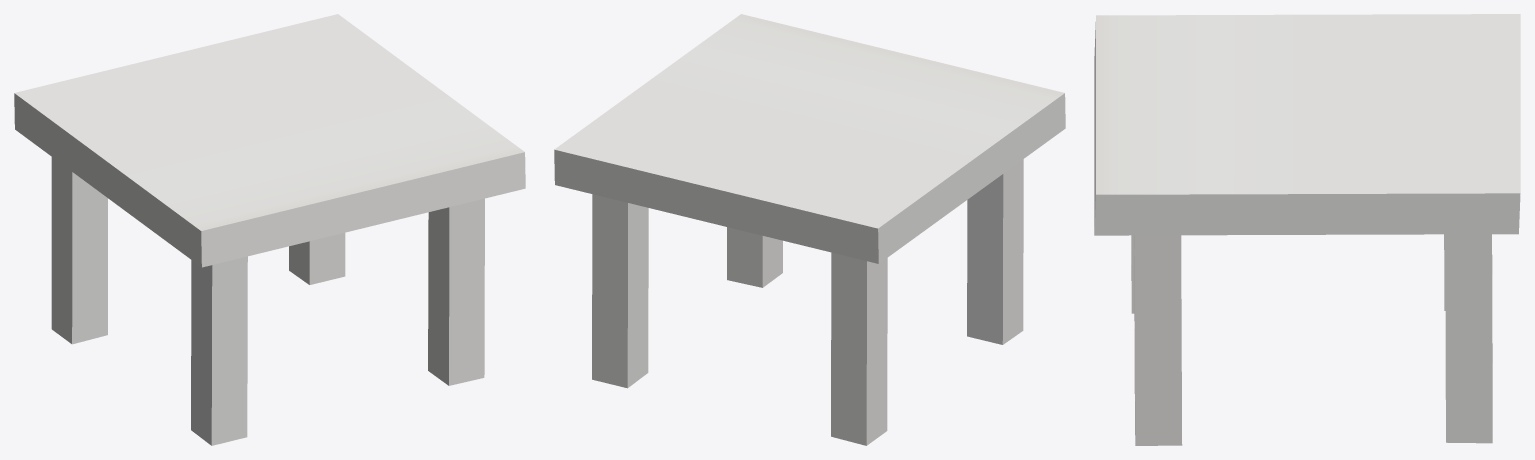
Rendered from Living_Room_table.fbx.
3 renders of one model, left to right at view 1: azimuth 30°, elevation 25°; view 2: azimuth 150°, elevation 25°; view 3: azimuth 270°, elevation 25°, orthographic. The views are drawn at different scales.
Parts seen in each view (by area): view 1: Living_Room_table; view 2: Living_Room_table; view 3: Living_Room_table.
Boxes of the visible parts, left/top/right/bottom form: Living_Room_table: left=14, top=14, right=525, bottom=445; Living_Room_table: left=554, top=14, right=1065, bottom=445; Living_Room_table: left=1094, top=14, right=1520, bottom=445.
Size of the model in its own units: 86.76 by 59.88 by 87.08.
